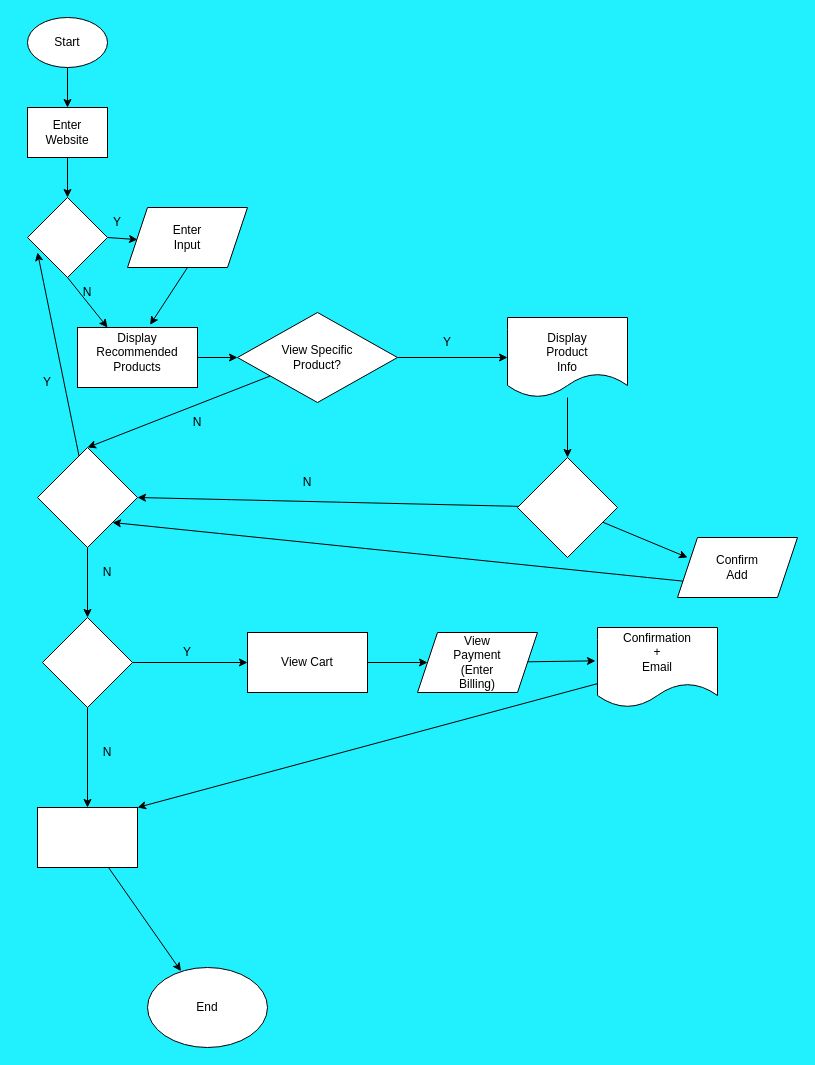
Some shapes in this 815 by 1065 pixel diagram are drawn without their labels. Here are the shapes that lost their labels. From the top down, the centre of each, then its label:
the point at 67,237: Search for Product?
the point at 87,497: Continue Shopping?
the point at 567,507: Add to Cart?
the point at 87,662: Checkout?
the point at 87,837: Leave Website
